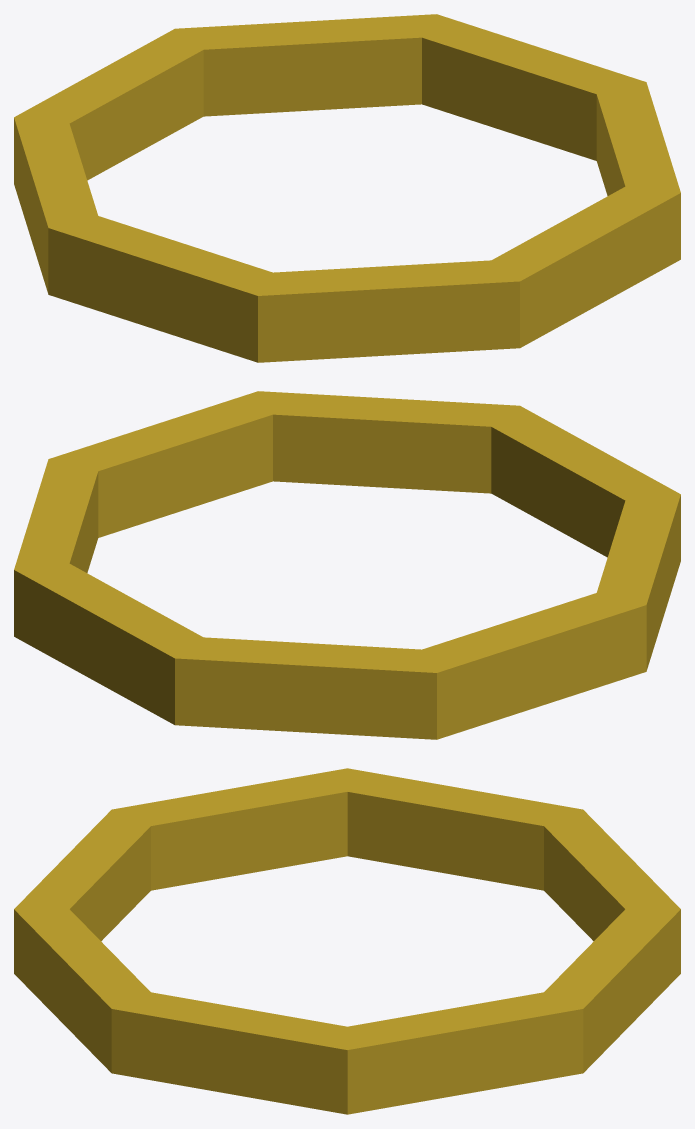
The model's file is Ring.fbx.
The picture shows the model from 3 angles, top to bottom: view 1: azimuth 30°, elevation 25°; view 2: azimuth 150°, elevation 25°; view 3: azimuth 270°, elevation 25°; orthographic projection. The views are drawn at different scales.
Visible parts, largest first — view 1: pCylinder1; view 2: pCylinder1; view 3: pCylinder1.
Boxes of the visible parts, x1,y1,x2,y2 form: pCylinder1: (14,14,680,362); pCylinder1: (14,391,680,739); pCylinder1: (14,768,680,1114).
Size of the model in its own units: 0.0125 by 0.00133 by 0.0125.
